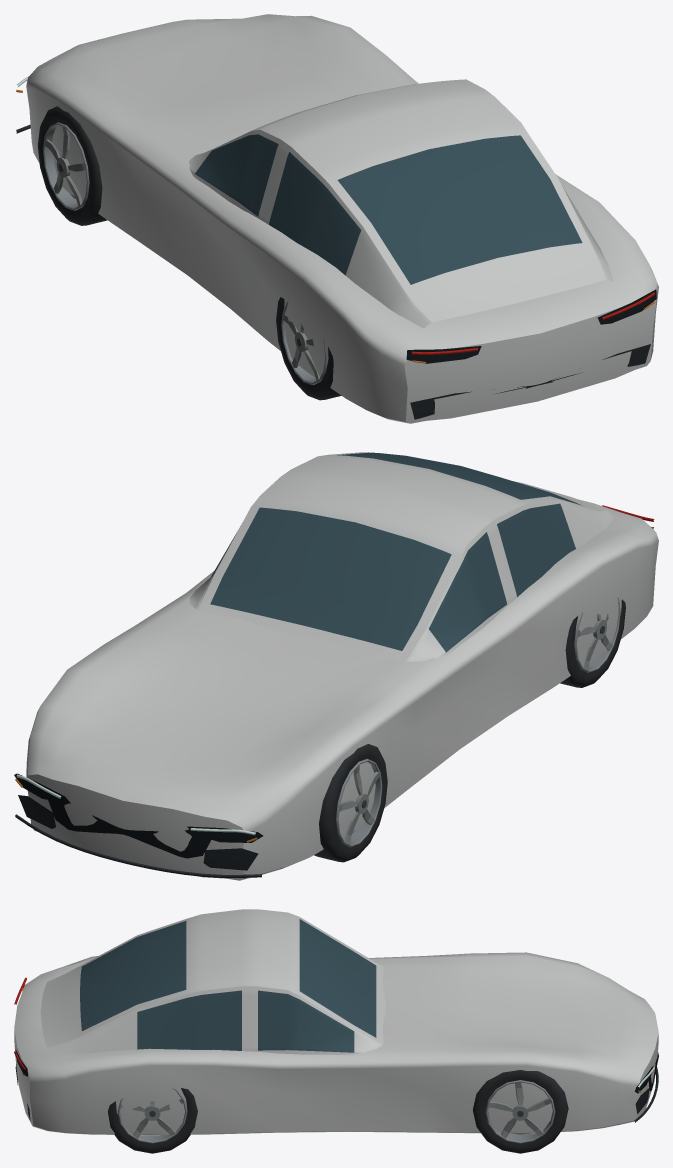
File: sterling-gt-lod.glb
3 renders of one model, top to bottom at view 1: azimuth 30°, elevation 25°; view 2: azimuth 150°, elevation 25°; view 3: azimuth 270°, elevation 25°, orthographic. The views are drawn at different scales.
Parts seen in each view (by area): view 1: paint, glass, wheelSurface (×2), trim; view 2: paint, glass, wheelSurface (×2), trim; view 3: paint, glass, wheelSurface (×2), trim.
Boxes of the visible parts, x1=… form: paint: x1=26, y1=14, x2=658, y2=423; glass: x1=195, y1=134, x2=582, y2=284; wheelSurface (×2): x1=37, y1=106, x2=341, y2=400; trim: x1=16, y1=124, x2=656, y2=419; paint: x1=26, y1=452, x2=658, y2=880; glass: x1=208, y1=452, x2=581, y2=652; wheelSurface (×2): x1=314, y1=597, x2=625, y2=862; trim: x1=14, y1=773, x2=263, y2=877; paint: x1=14, y1=909, x2=658, y2=1135; glass: x1=80, y1=919, x2=376, y2=1052; wheelSurface (×2): x1=108, y1=1070, x2=568, y2=1153; trim: x1=15, y1=1049, x2=658, y2=1122.
Bounding box in the file's own units: 1.96 × 1.28 × 4.66.
